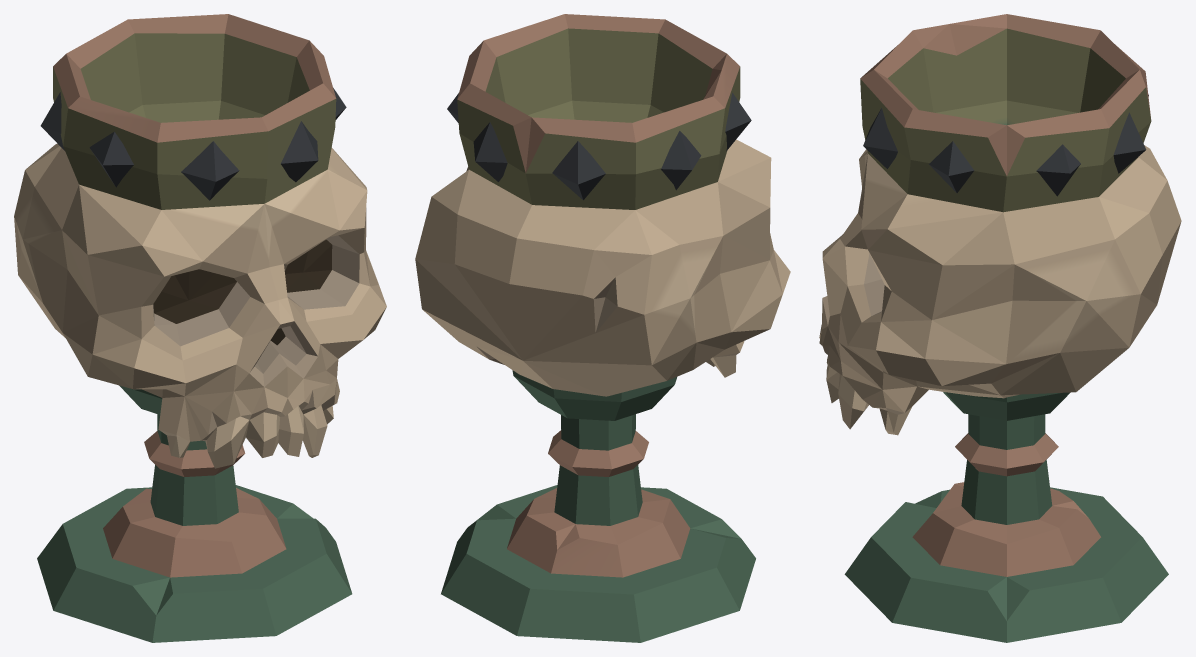
The model's file is SM_Prop_Cup_03.fbx.
3 views of the same model, side by side, from view 1: azimuth 30°, elevation 25°; view 2: azimuth 150°, elevation 25°; view 3: azimuth 270°, elevation 25° (orthographic).
Visible parts, largest first — view 1: SM_Prop_Cup_03; view 2: SM_Prop_Cup_03; view 3: SM_Prop_Cup_03.
Part boxes in pixels (<box>): SM_Prop_Cup_03: <box>14,14,386,642</box>; SM_Prop_Cup_03: <box>415,14,790,642</box>; SM_Prop_Cup_03: <box>819,14,1181,642</box>.
Size of the model in its own units: 25.76 by 43.64 by 28.38.
